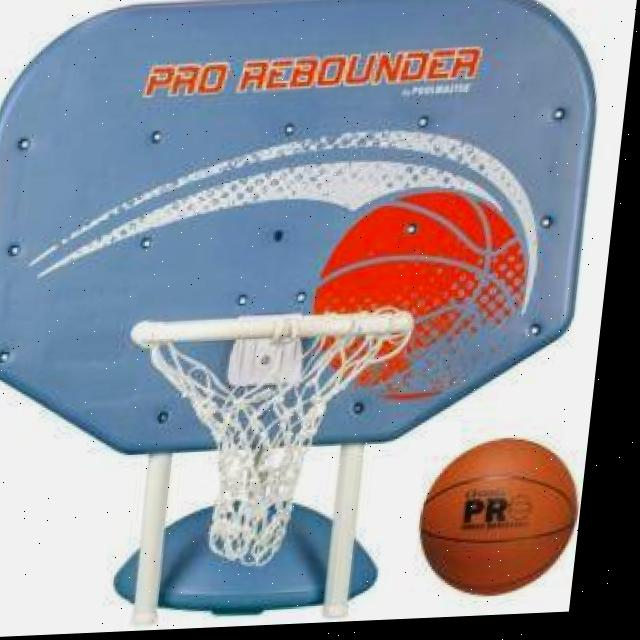basketball: (411, 432, 587, 598)
hoop: (102, 309, 414, 574)
